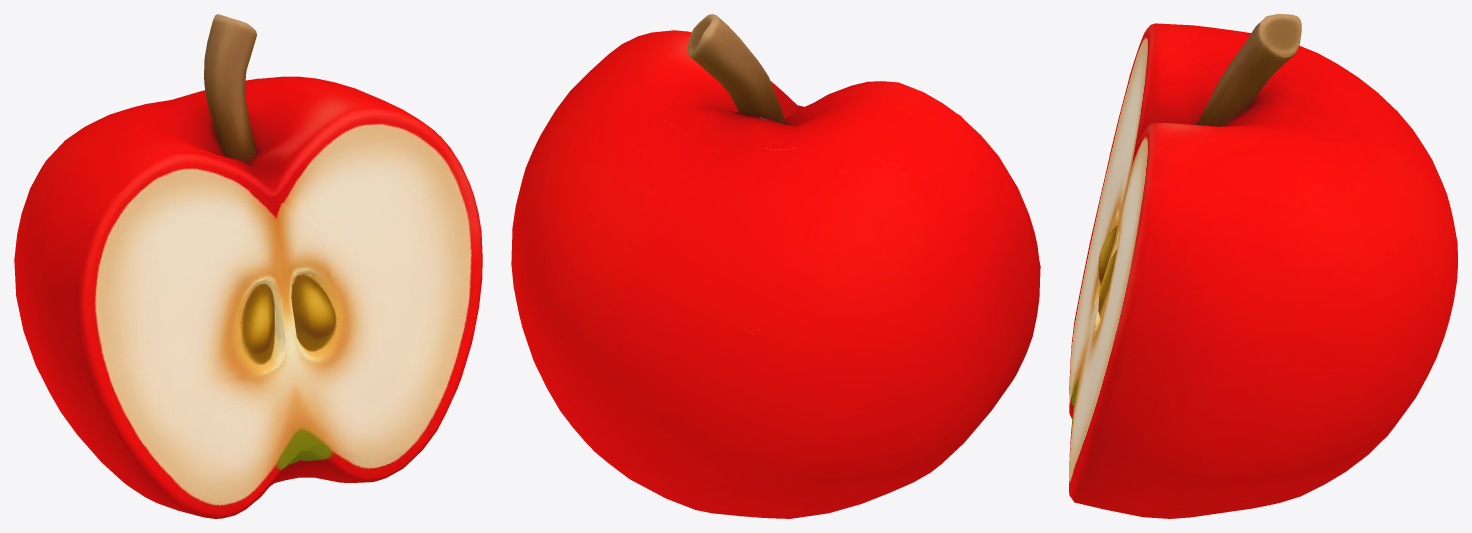
Rendered from AppleHalf.glb.
3 renders of one model, left to right at view 1: azimuth 30°, elevation 25°; view 2: azimuth 150°, elevation 25°; view 3: azimuth 270°, elevation 25°, orthographic. The views are drawn at different scales.
Parts seen in each view (by area): view 1: geometry_0; view 2: geometry_0; view 3: geometry_0.
Boxes of the visible parts, bbox=[...] form: geometry_0: bbox=[14, 14, 482, 518]; geometry_0: bbox=[511, 14, 1040, 518]; geometry_0: bbox=[1069, 14, 1457, 518].
Bounding box in the file's own units: 1 × 0.9986 × 0.7592.
1 material, 1 textured.
